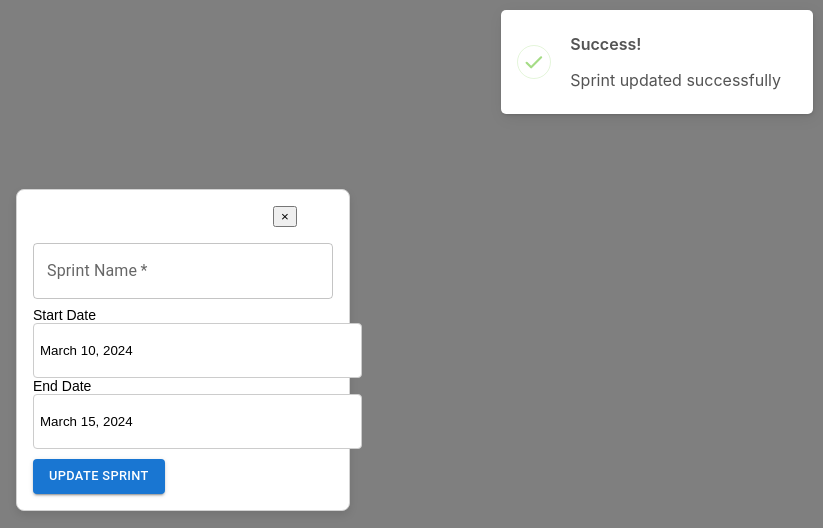
Test: AddDate Component › displays validation errors when required fields are empty
Click the button with test id "sprint-submit".
click(99, 476)  # box left=33, top=459, right=165, bottom=494
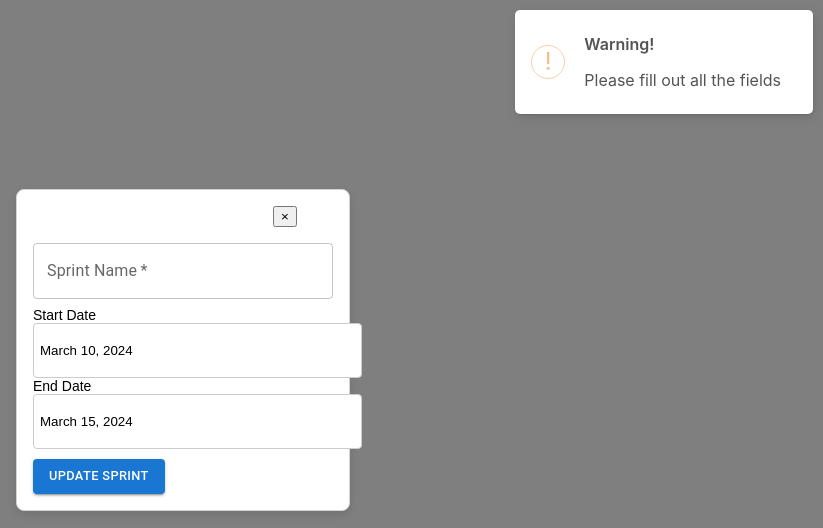
Expected: the text "Please fill out all the fields" is shown, left=584, top=70, right=781, bottom=90
